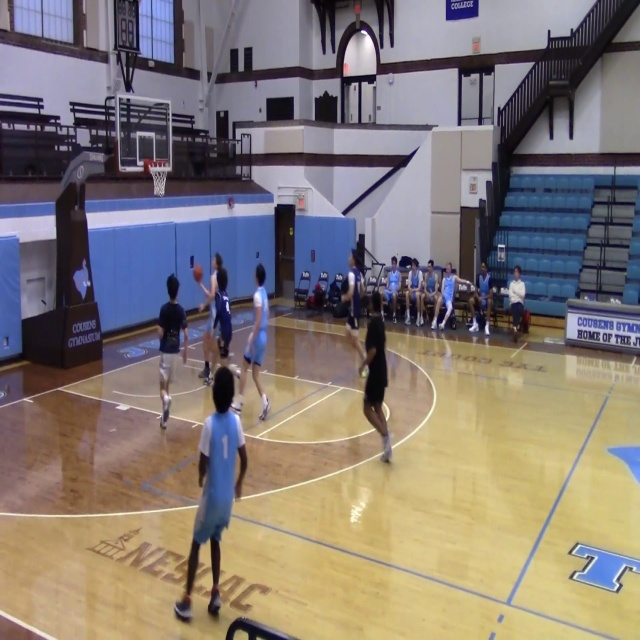Basketball: (193, 265, 203, 282), (360, 368, 368, 378)
